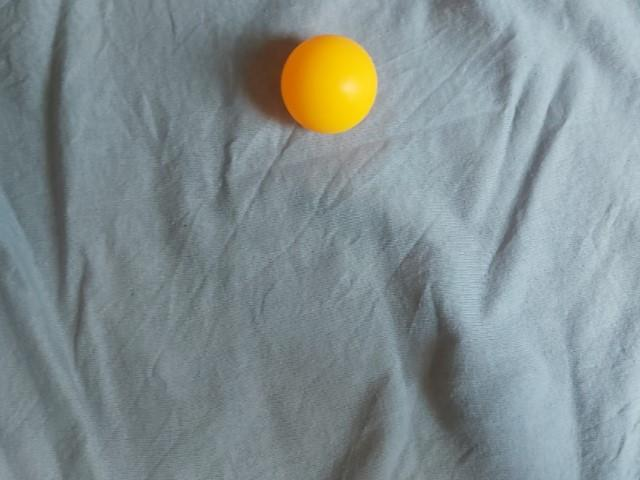oball: (252, 338, 369, 453)
